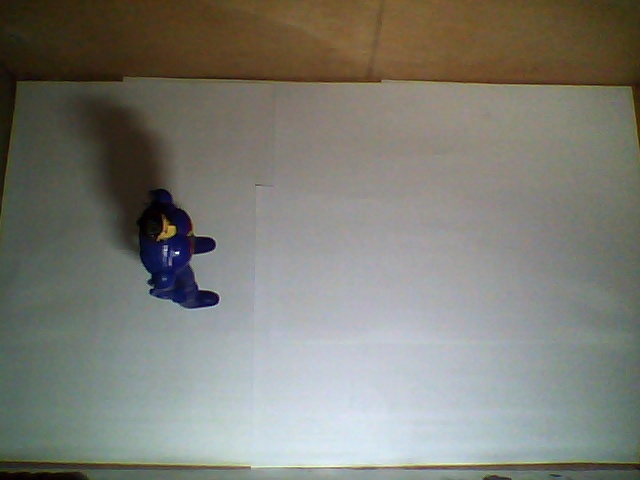human_figure: (137, 191, 219, 310)
